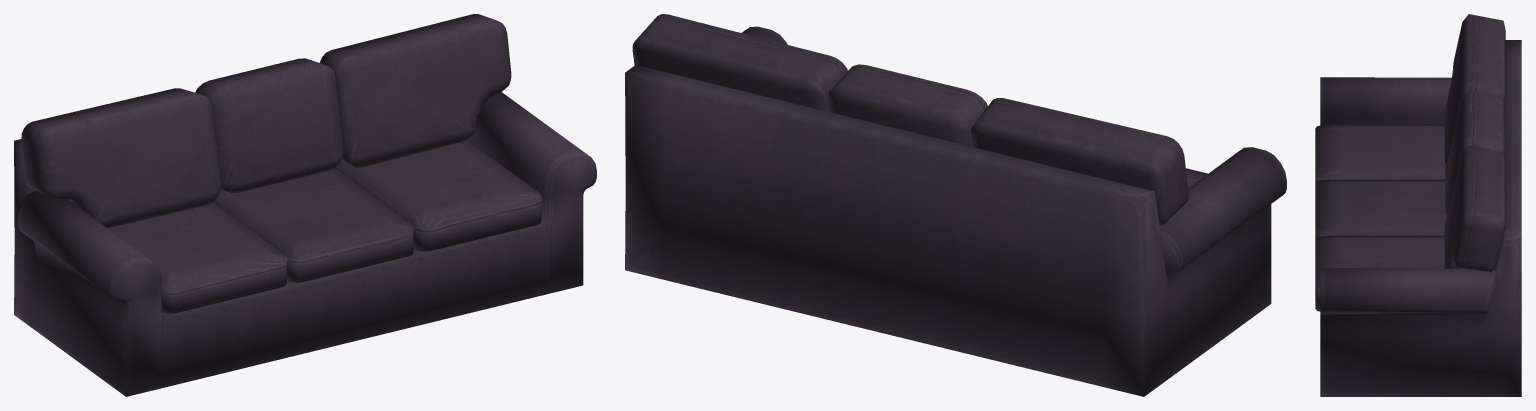
File: Unity2Skfb.gltf
3 renders of one model, left to right at view 1: azimuth 30°, elevation 25°; view 2: azimuth 150°, elevation 25°; view 3: azimuth 270°, elevation 25°, orthographic. The views are drawn at different scales.
Visible parts, largest first — view 1: node_Couch_9592; view 2: node_Couch_9592; view 3: node_Couch_9592.
Boxes of the visible parts, x1=… form: node_Couch_9592: x1=14, y1=14, x2=596, y2=396; node_Couch_9592: x1=625, y1=14, x2=1286, y2=396; node_Couch_9592: x1=1315, y1=14, x2=1521, y2=396.
Bounding box in the file's own units: 2.12 × 0.8611 × 0.8713.
Materials: 1 (1 with a texture image).
